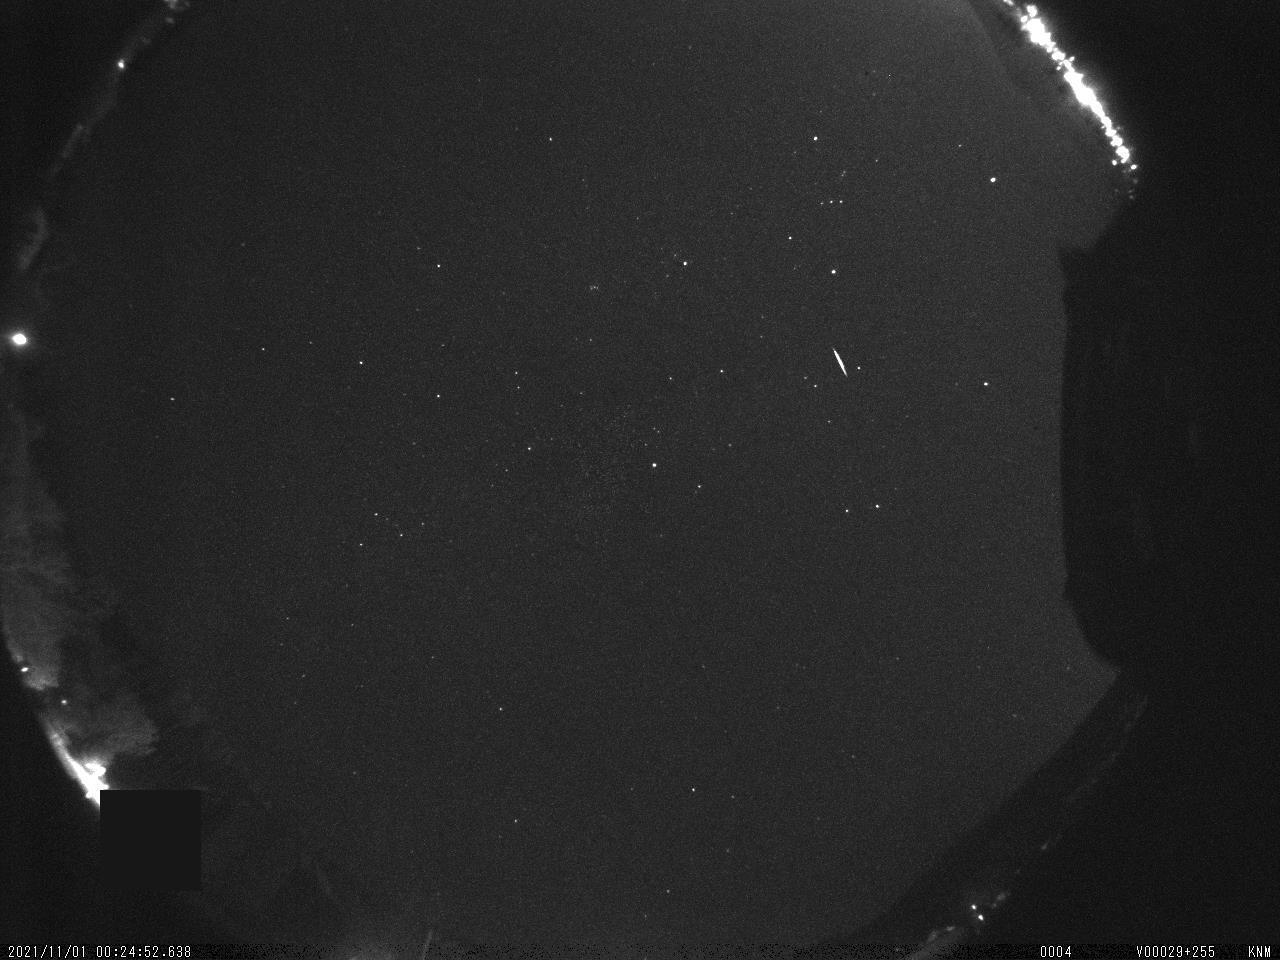Meteor: (831, 344, 850, 375)
